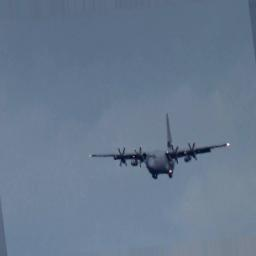Airplane: (89, 115, 227, 180)
